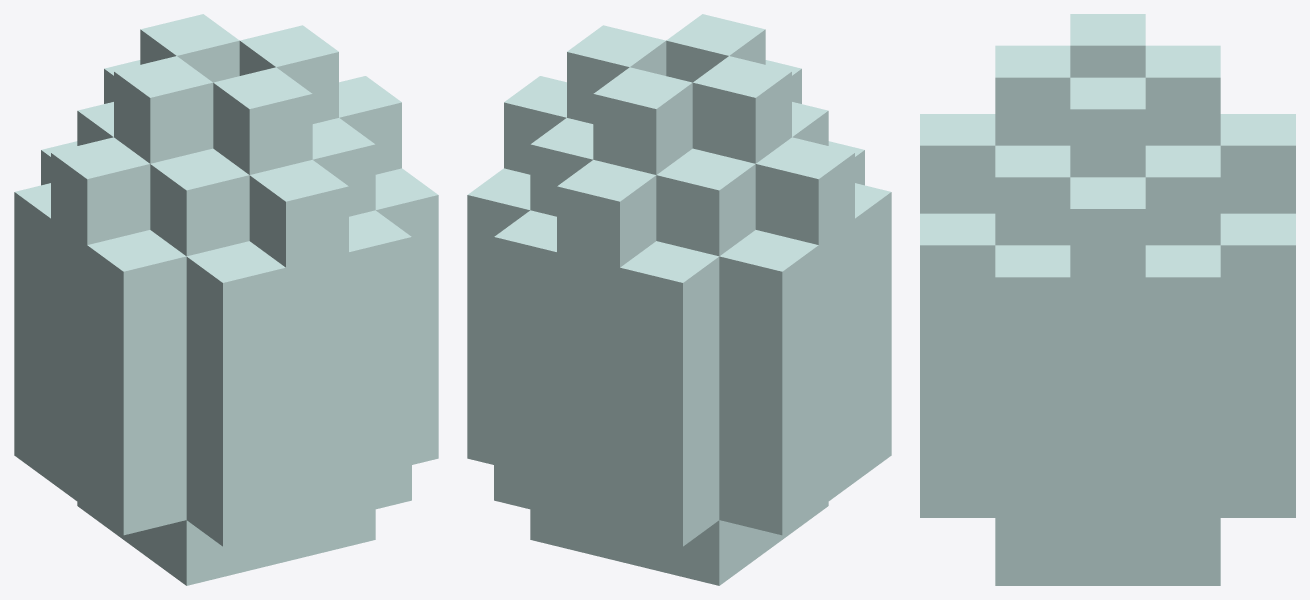
File: Glass.obj
3 views of the same model, side by side, from view 1: azimuth 30°, elevation 25°; view 2: azimuth 150°, elevation 25°; view 3: azimuth 270°, elevation 25° (orthographic). The views are drawn at different scales.
Bounding box in the file's own units: 0.5 × 0.7 × 0.5.
